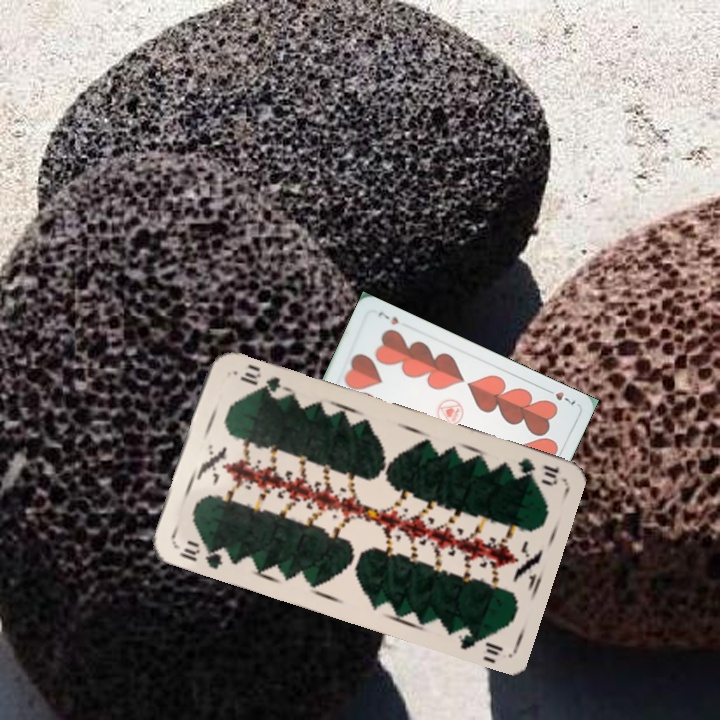G10: (175, 536, 233, 572), (513, 454, 562, 488)
H7: (541, 384, 579, 408)
